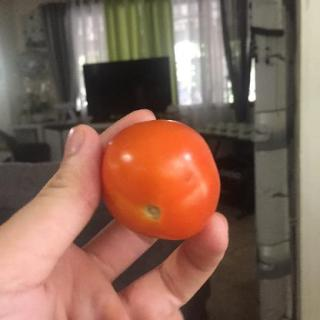Tomat: (88, 111, 242, 255)
